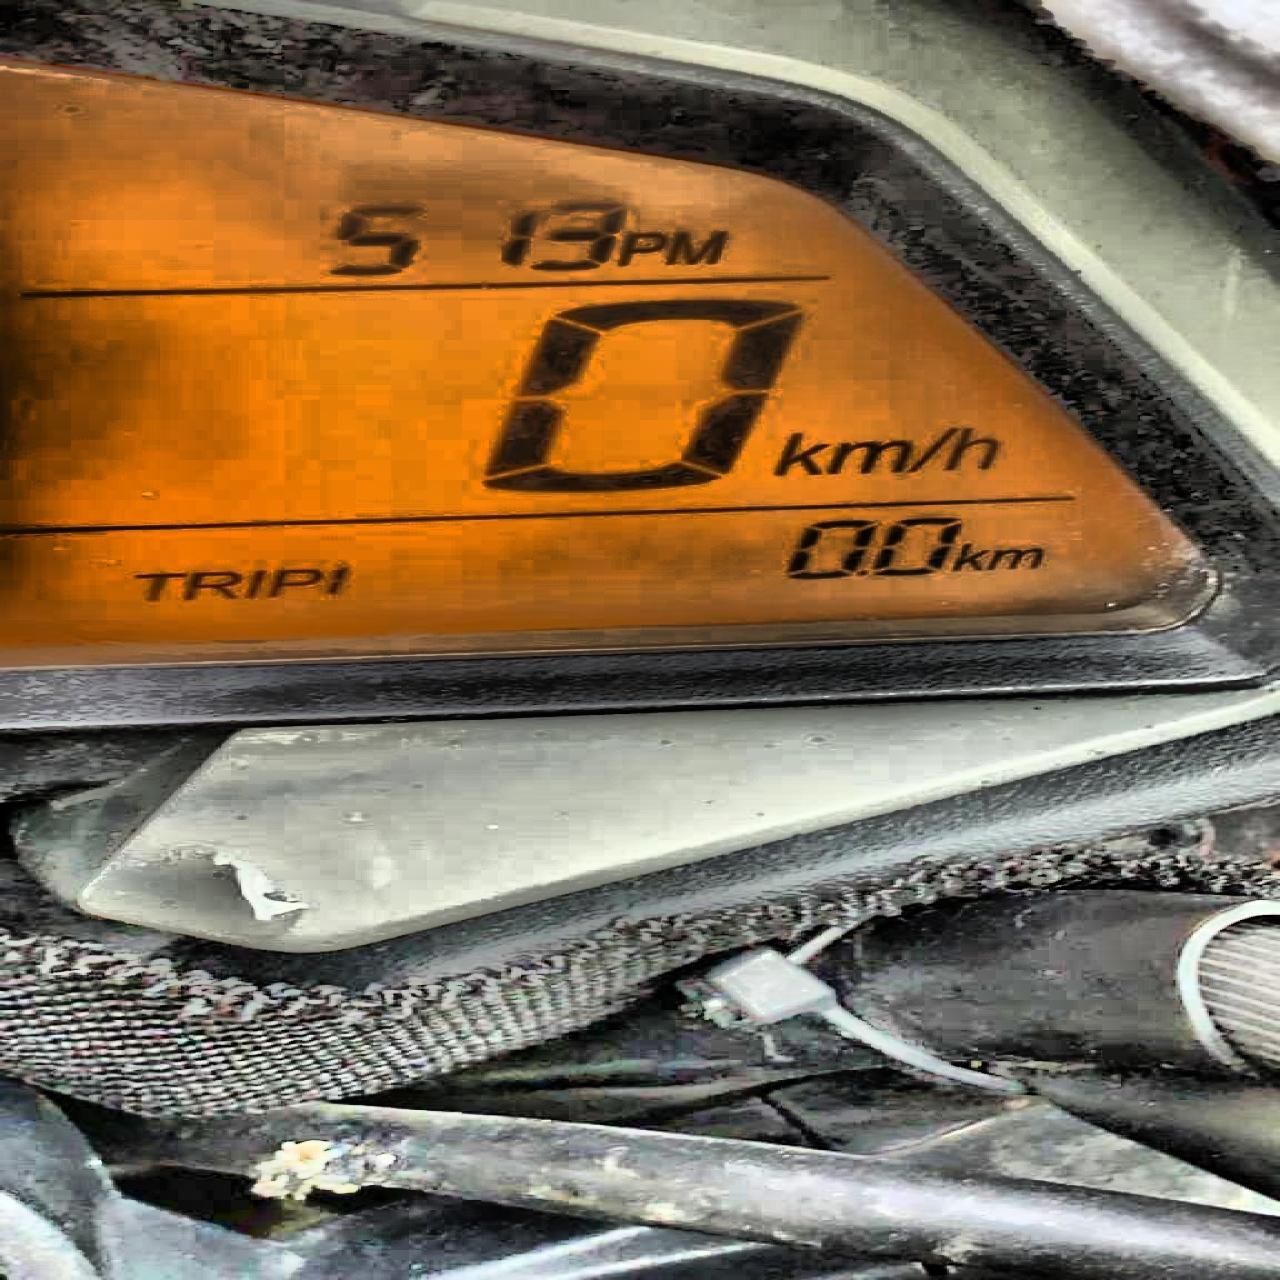-: (853, 567, 869, 580)
0: (479, 294, 804, 493), (784, 517, 866, 578), (878, 516, 958, 573)
1: (493, 202, 539, 264), (327, 560, 352, 598)
3: (536, 195, 622, 271)
5: (328, 199, 422, 279)
X: (824, 440, 905, 475), (771, 429, 822, 477), (951, 425, 1000, 472), (907, 424, 952, 475), (665, 229, 727, 264), (184, 567, 240, 602), (131, 567, 181, 606), (271, 564, 322, 599), (618, 229, 665, 266), (987, 545, 1044, 570), (243, 564, 268, 602), (953, 542, 982, 576)
odometer: (0, 53, 1238, 681)
